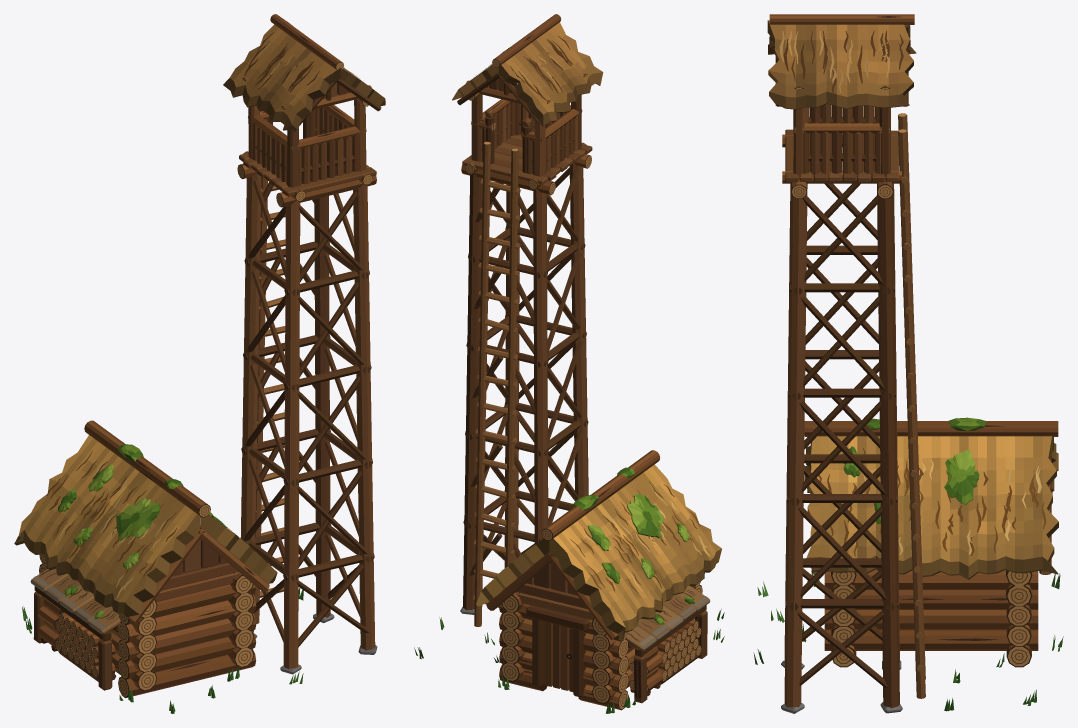
The model's file is ranger-cabin.glb.
The picture shows the model from 3 angles, left to right: view 1: azimuth 30°, elevation 25°; view 2: azimuth 150°, elevation 25°; view 3: azimuth 270°, elevation 25°; orthographic projection. The views are drawn at different scales.
Visible parts, largest first — view 1: TownToonForester; view 2: TownToonForester; view 3: TownToonForester.
Part boxes in pixels (left/top/right/bottom): TownToonForester: left=14, top=14, right=385, bottom=713; TownToonForester: left=414, top=14, right=724, bottom=713; TownToonForester: left=753, top=14, right=1063, bottom=713.
Size of the model in its own units: 4.07 by 9.45 by 3.89.
